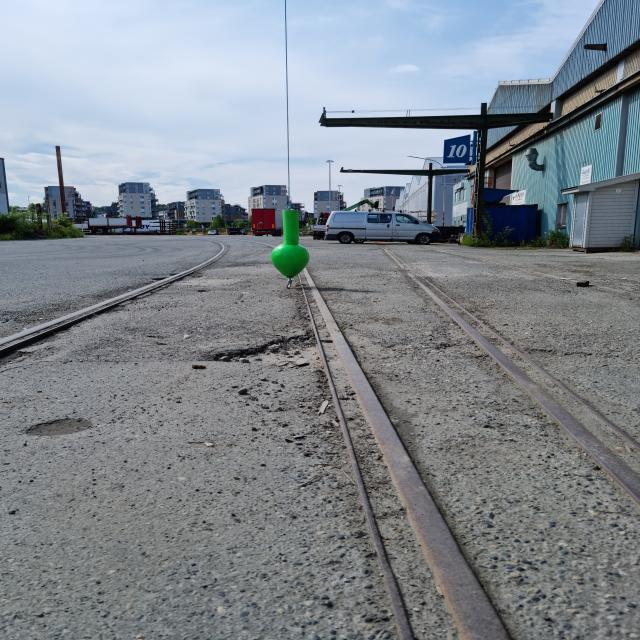green: (272, 210, 309, 279)
